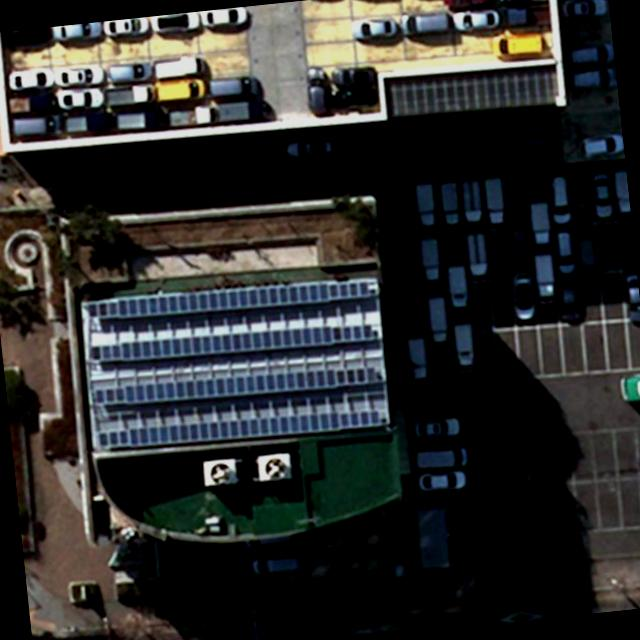solar: (85, 268, 372, 332), (93, 401, 387, 461), (88, 314, 374, 370), (90, 358, 373, 412)
